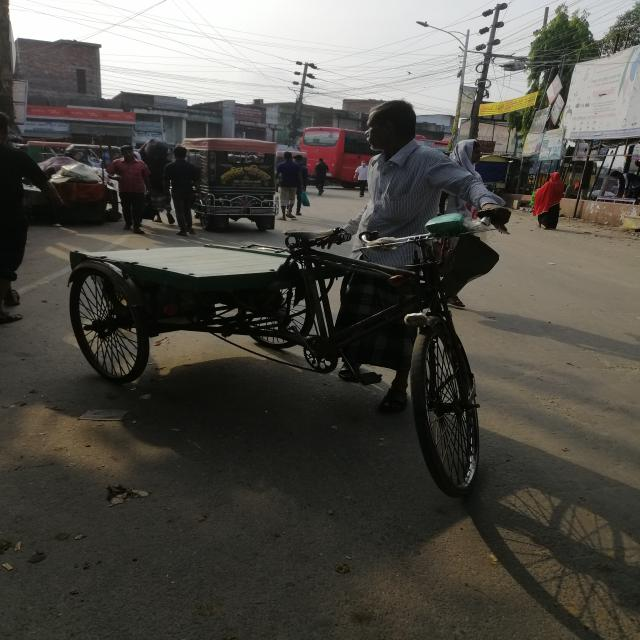Van: (40, 231, 502, 504)
